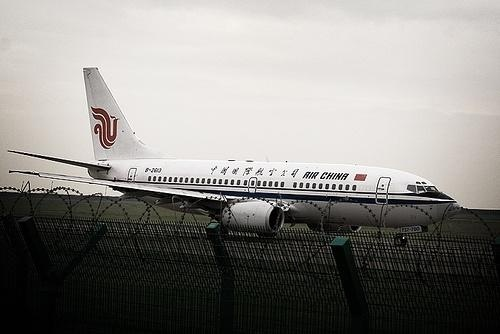aeroplane: (5, 66, 468, 252)
